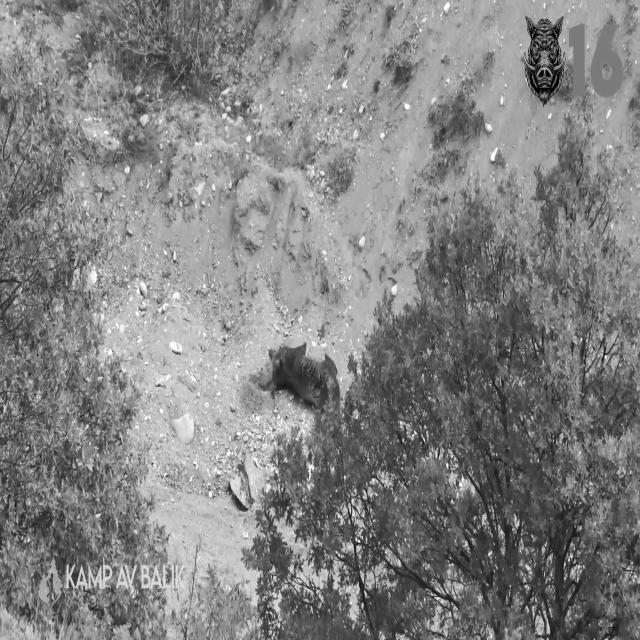boar: (269, 343, 339, 407), (525, 15, 567, 105)
